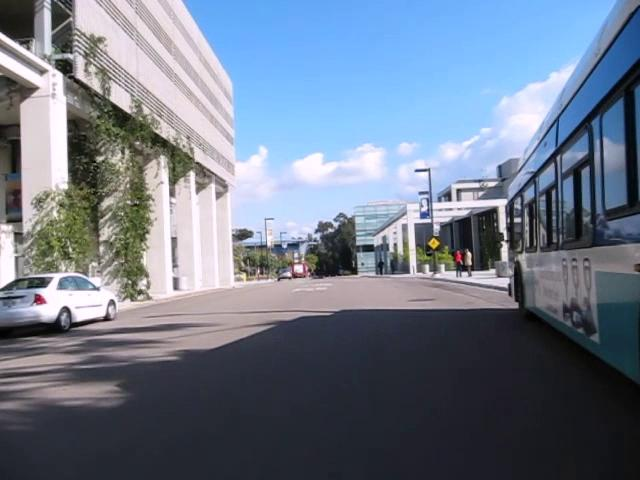pedestrianCrossing: (427, 236, 441, 249)
